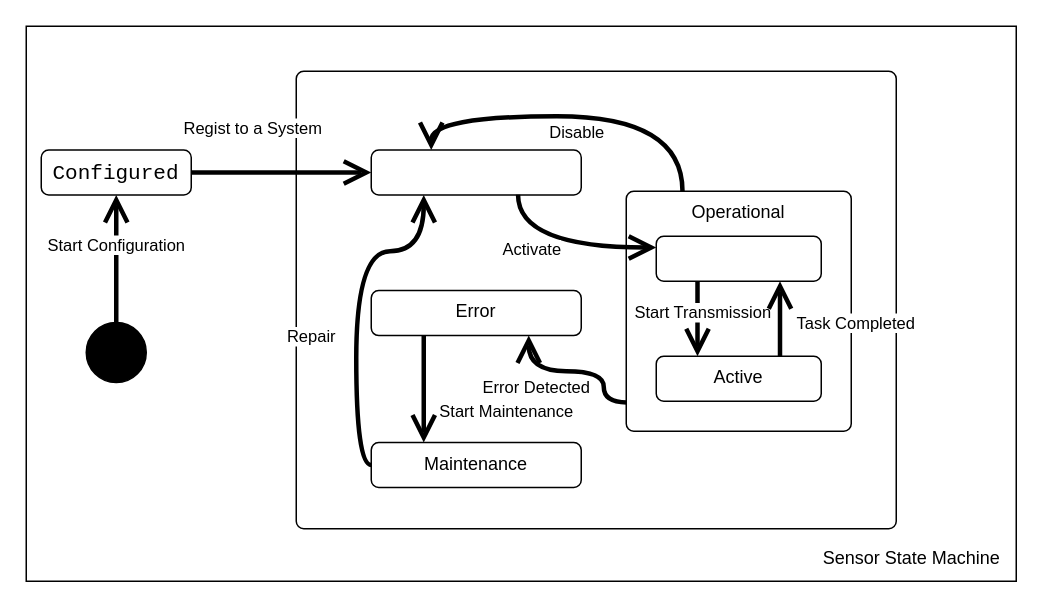
This 1043x608 diagram has some shape labels left out. Each missing label, with the box of its shape:
Disabled: (370, 148, 581, 195)
Idle: (655, 235, 821, 281)
Registed: (295, 70, 896, 529)
